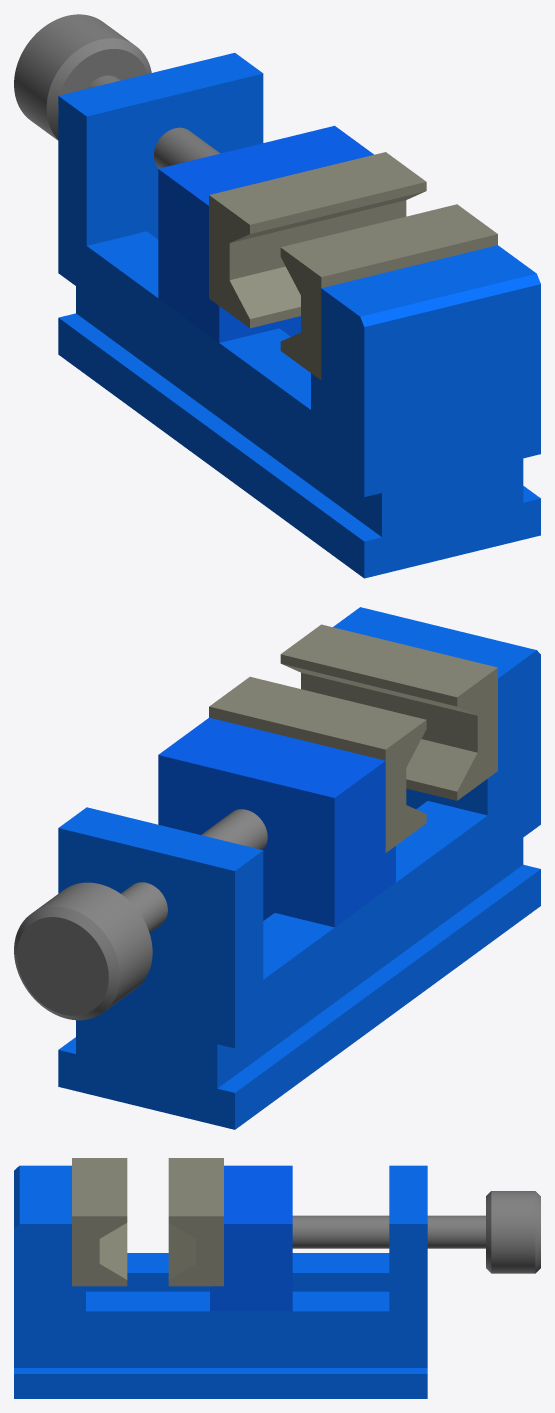
The picture shows the model from 3 angles, top to bottom: view 1: azimuth 30°, elevation 25°; view 2: azimuth 150°, elevation 25°; view 3: azimuth 270°, elevation 25°; orthographic projection. The views are drawn at different scales.
Visible parts, largest first — view 1: 2_sem_peca.001; view 2: 2_sem_peca.001; view 3: 2_sem_peca.001.
Boxes of the visible parts, box(x1,y1,x2,y2) form: 2_sem_peca.001: box(14, 14, 540, 578); 2_sem_peca.001: box(14, 607, 540, 1129); 2_sem_peca.001: box(14, 1158, 540, 1398).
Size of the model in its own units: 1.06 by 1.55 by 4.06.
